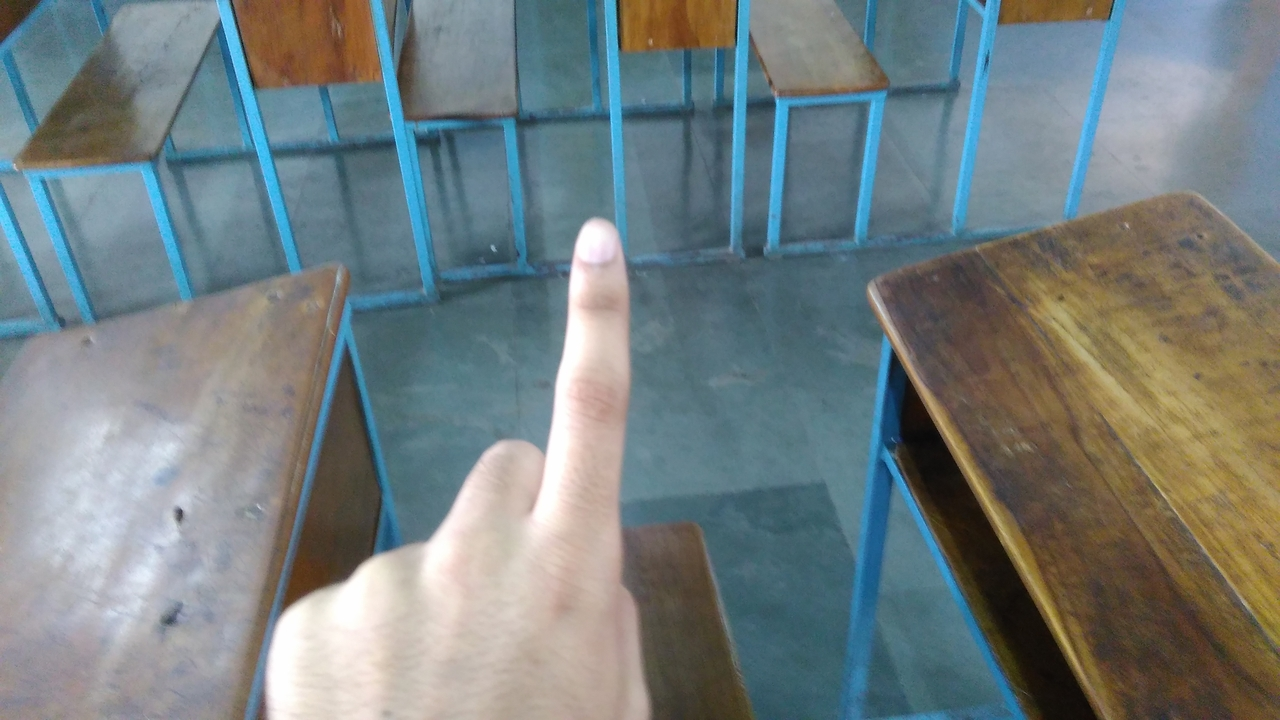fingertip: (562, 214, 631, 280)
